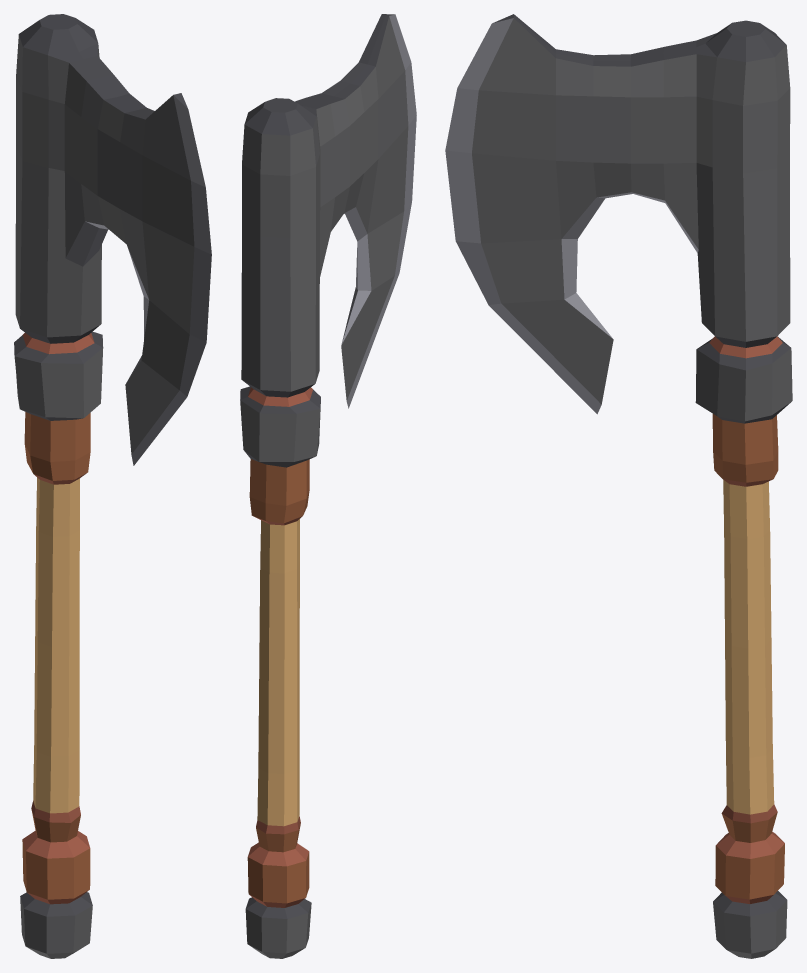
Rendered from OrcAxe.fbx.
The picture shows the model from 3 angles, left to right: view 1: azimuth 30°, elevation 25°; view 2: azimuth 150°, elevation 25°; view 3: azimuth 270°, elevation 25°; orthographic projection. The views are drawn at different scales.
Parts seen in each view (by area): view 1: Cylinder; view 2: Cylinder; view 3: Cylinder.
Boxes of the visible parts, <box> form: Cylinder: <box>14,14,211,958</box>; Cylinder: <box>240,14,416,958</box>; Cylinder: <box>445,14,792,958</box>.
Size of the model in its own units: 0.3751 by 3.84 by 1.29.
